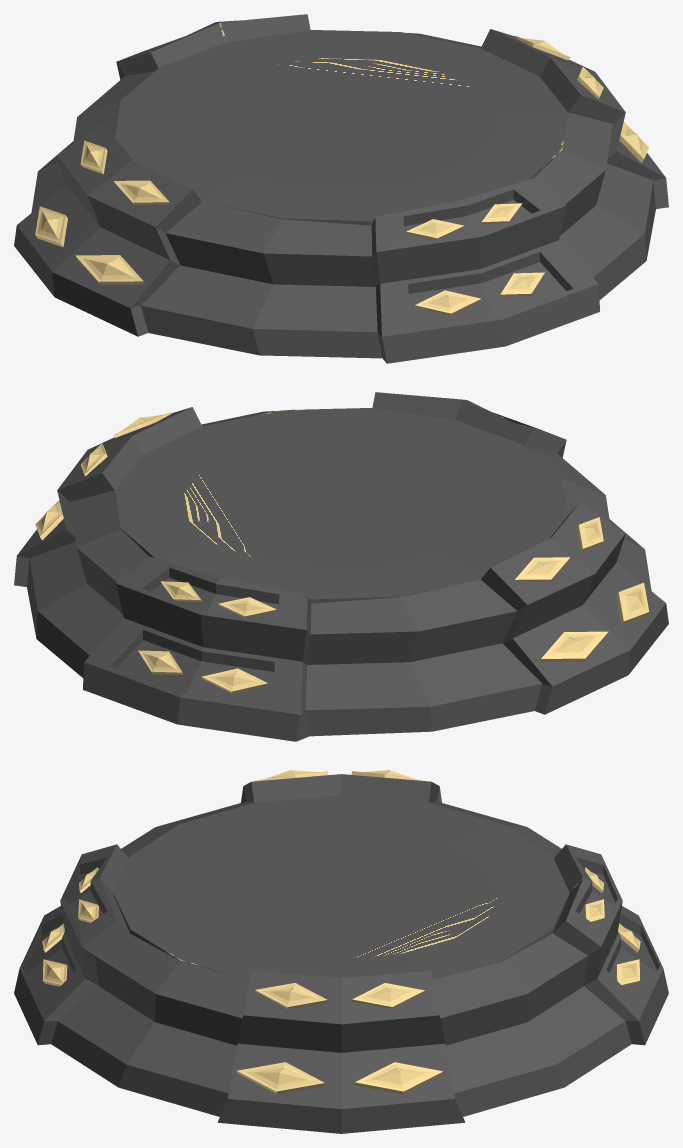
File: TowerBases.fbx
3 views of the same model, one above another, from view 1: azimuth 30°, elevation 25°; view 2: azimuth 150°, elevation 25°; view 3: azimuth 270°, elevation 25° (orthographic).
Visible parts, largest first — view 1: Base; view 2: Base; view 3: Base.
Part boxes in pixels (box(x1,y1,x2,y2)): Base: box(14, 14, 668, 363); Base: box(14, 392, 668, 741); Base: box(14, 770, 668, 1133).
Size of the model in its own units: 13.76 by 2.69 by 13.52.
Materials: 1 (1 with a texture image).
